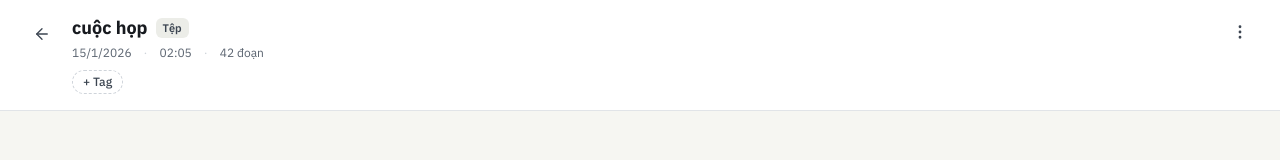
it: SessionHeader › clicking the title opens inline rename with the current title preselected
The image size is (1280, 160).
What coordinates should you click on to do the following:
click the button "cuộc họp"
I would click on:
 (110, 28)
Its box is [72, 16, 148, 40].
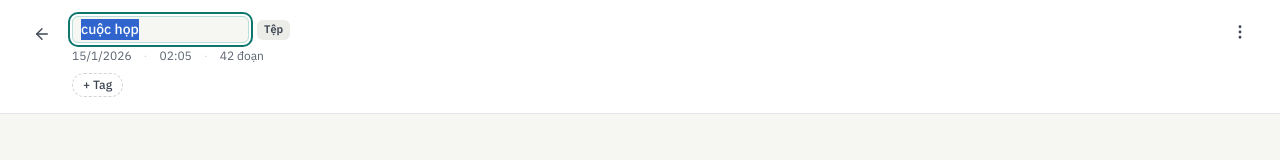
Now the field named "Tên phiên" holds "cuộc họp", box [72, 16, 249, 43]
